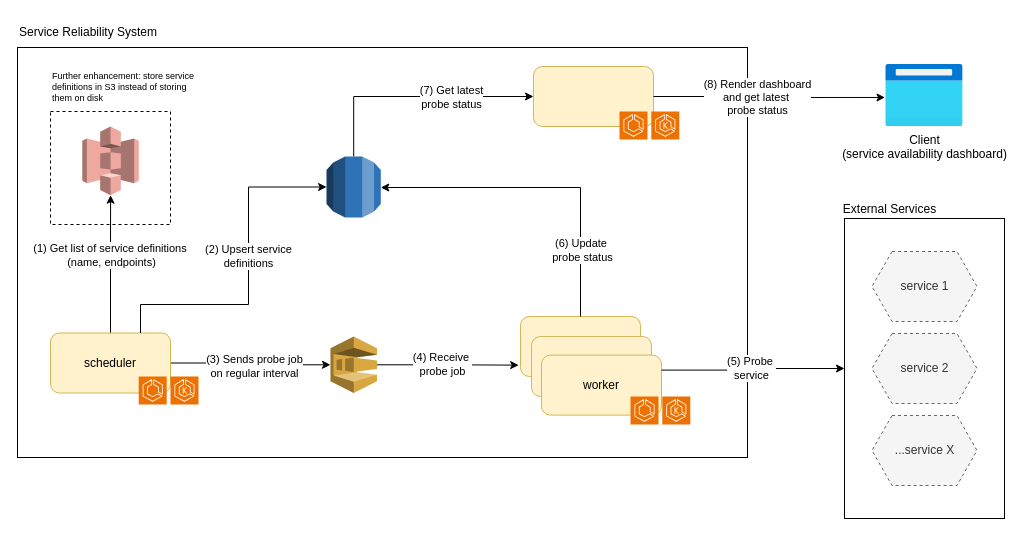
This 1024x536 diagram has some shape labels left out. The shapes that lost their labels are listed below. From the top down, each one's box as (x1, y1, x2, y2) in pixels, then its label:
(532, 66, 654, 126): api
(81, 126, 139, 195): S3
(326, 156, 381, 218): PostgreSQL
(330, 336, 377, 393): SQS
